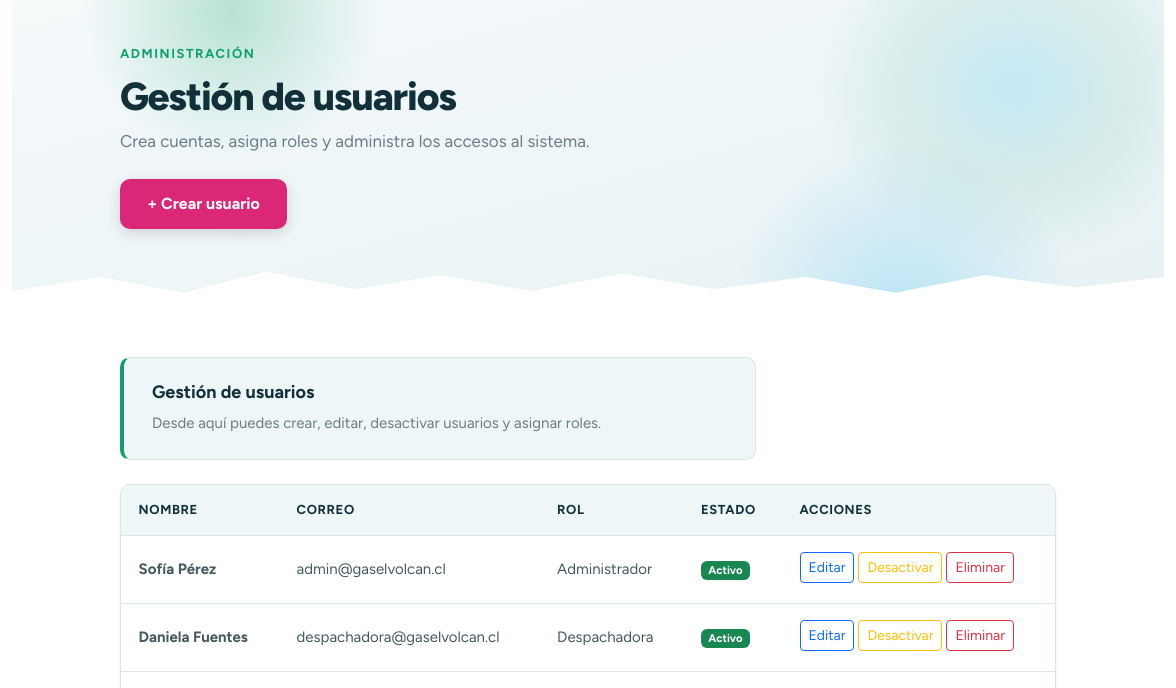
Test: Gestión de usuarios › no deja desactivar la propia cuenta
Click the button "Desactivar" in the row of "Sofía Pérez": (900, 567) [858,552,942,583]
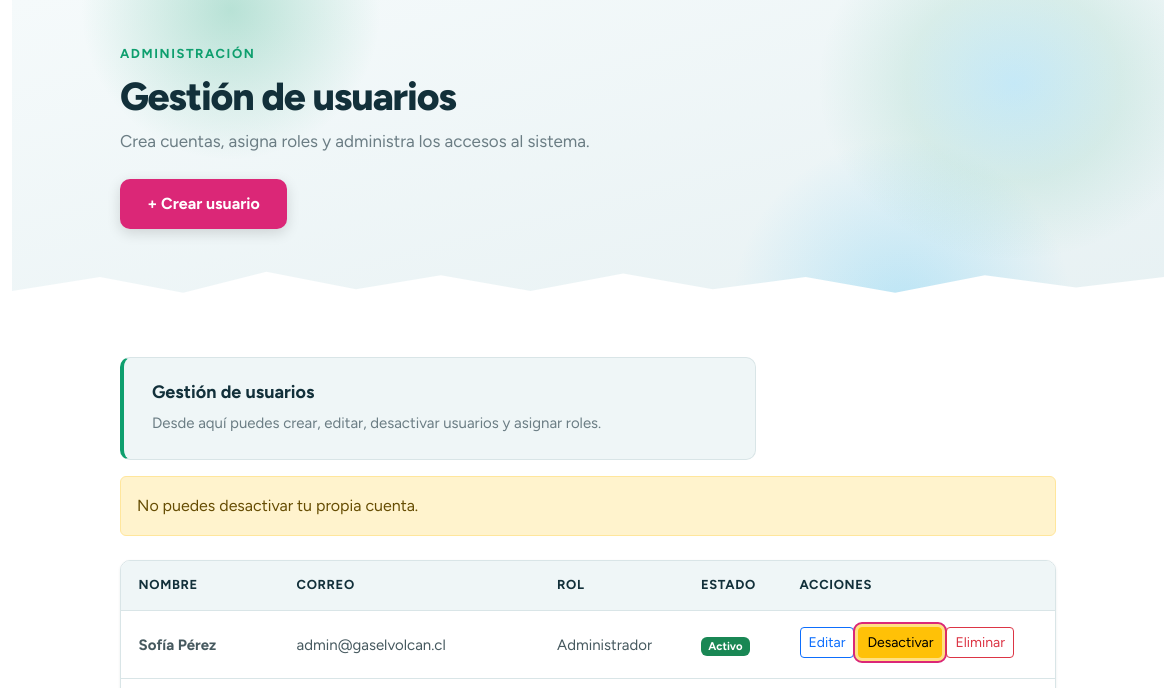
expect the message reads "No puedes desactivar tu propia cuenta.": met, box [137,496,418,515]
